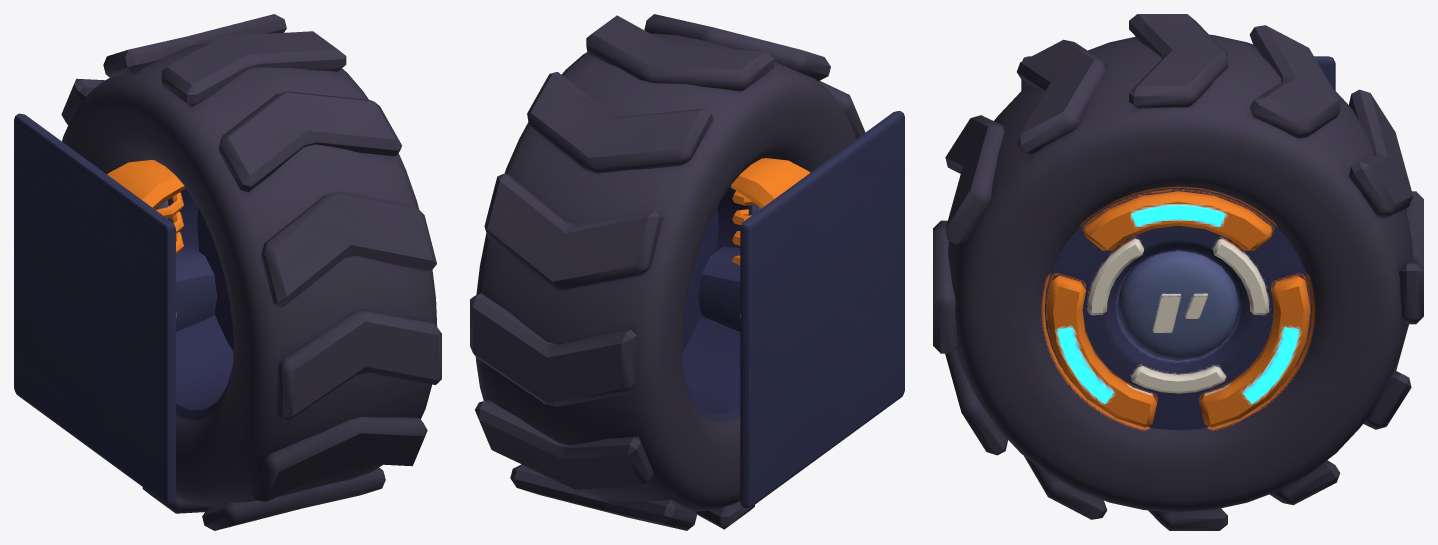
File: R4M_WheelM_Side_Offroad.glb
3 renders of one model, left to right at view 1: azimuth 30°, elevation 25°; view 2: azimuth 150°, elevation 25°; view 3: azimuth 270°, elevation 25°, orthographic.
Visible parts, largest first — view 1: R4M_WheelM_Side_Offroad_Rotor, R4M_WheelM_Side_Offroad_Mount, R4M_WheelM_Side_Offroad_Coil; view 2: R4M_WheelM_Side_Offroad_Rotor, R4M_WheelM_Side_Offroad_Mount, R4M_WheelM_Side_Offroad_Coil; view 3: R4M_WheelM_Side_Offroad_Rotor.
Boxes of the visible parts, <box> form: R4M_WheelM_Side_Offroad_Rotor: <box>61,14,441,530</box>; R4M_WheelM_Side_Offroad_Mount: <box>14,113,217,503</box>; R4M_WheelM_Side_Offroad_Coil: <box>156,192,183,253</box>; R4M_WheelM_Side_Offroad_Rotor: <box>470,14,865,530</box>; R4M_WheelM_Side_Offroad_Mount: <box>698,111,904,507</box>; R4M_WheelM_Side_Offroad_Coil: <box>732,191,756,265</box>; R4M_WheelM_Side_Offroad_Rotor: <box>933,14,1423,530</box>.
Bounding box in the file's own units: 0.448 × 0.766 × 0.766.
4 materials, 4 textured.
